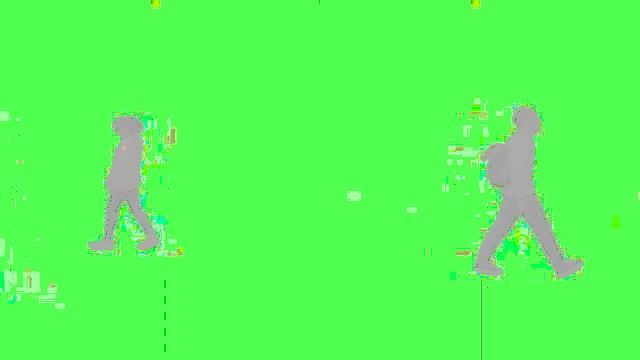berjalan: (472, 105, 586, 284), (93, 114, 163, 252)
